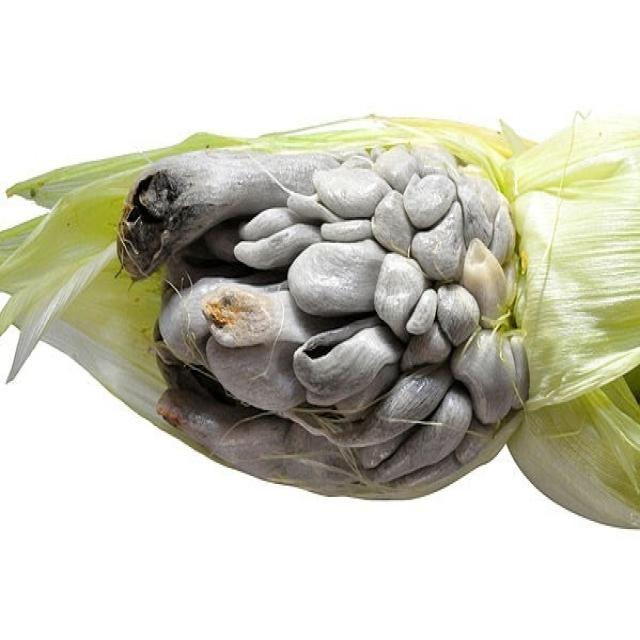Leaf_Scald: (106, 77, 558, 541)
